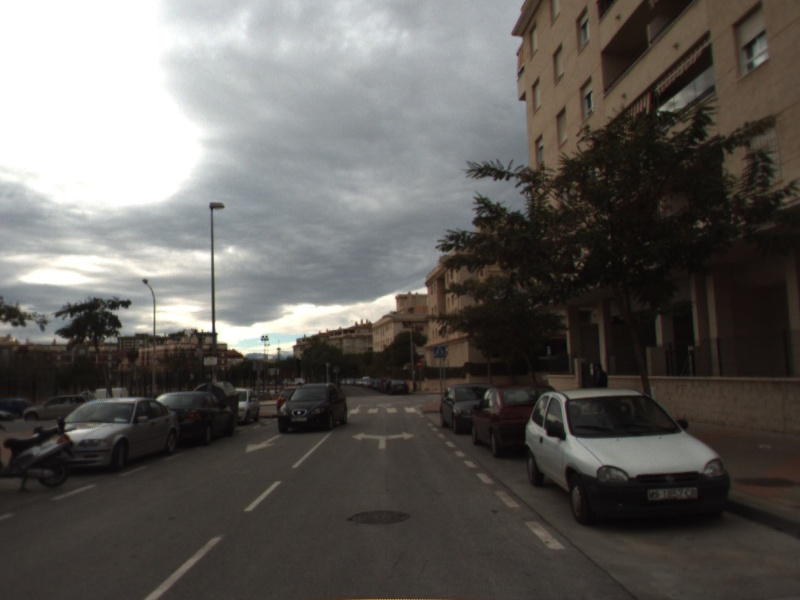LEFT_RIGHT: (350, 429, 417, 451)
